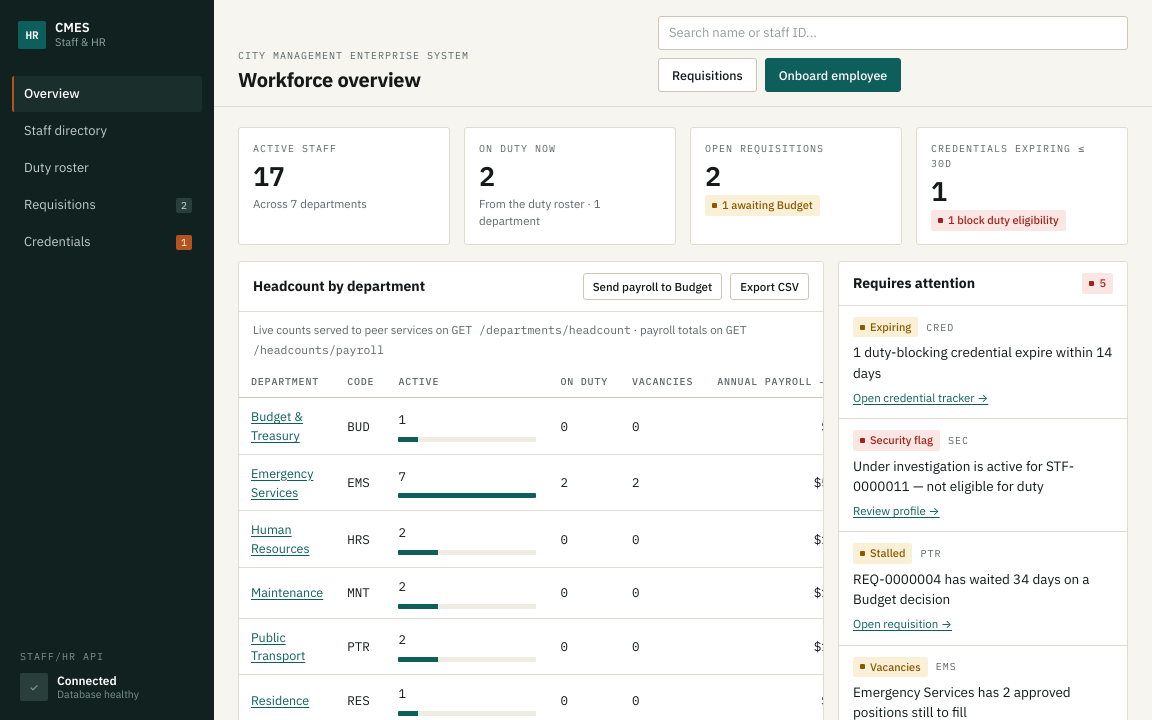
Scenario: CMES Staff & HR frontend › sends this month's payroll cost to Budget from the overview
Click the button "Send payroll to Budget" at (652, 286), box [583,273,722,300]
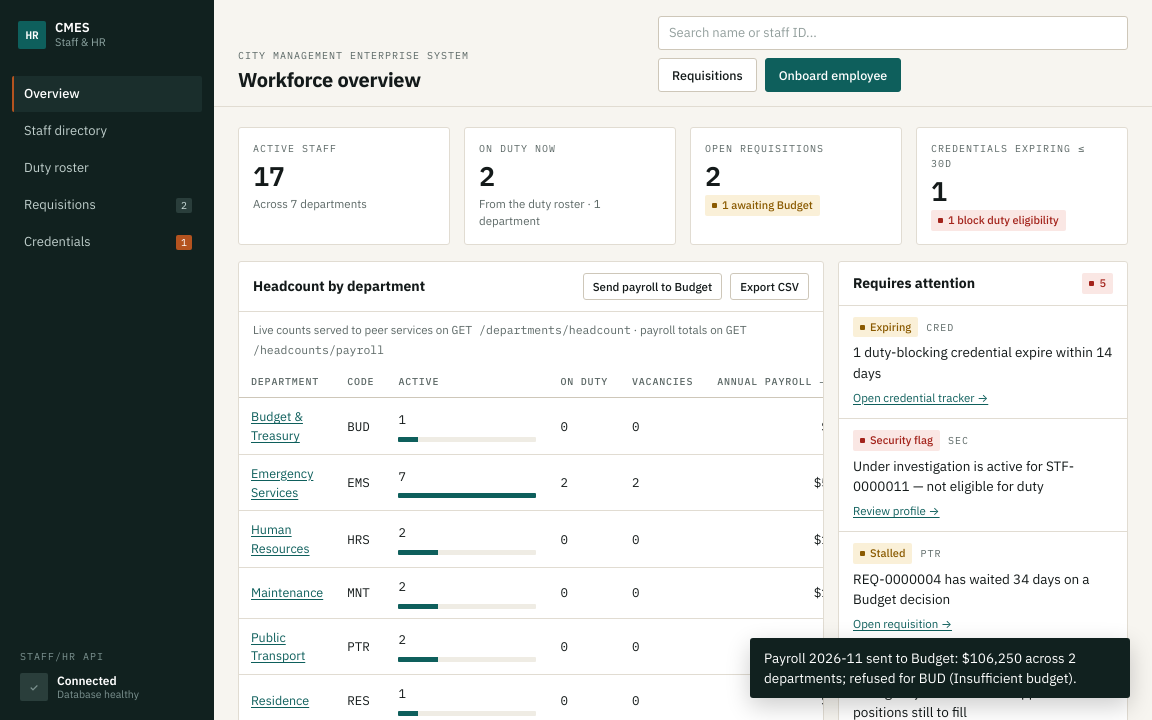
Check: the text "Payroll 2026-11 sent to Budget: $106,250 across 2 departments; refused for BUD (Insufficient budget)" is shown, box [764,648,1077,687]
